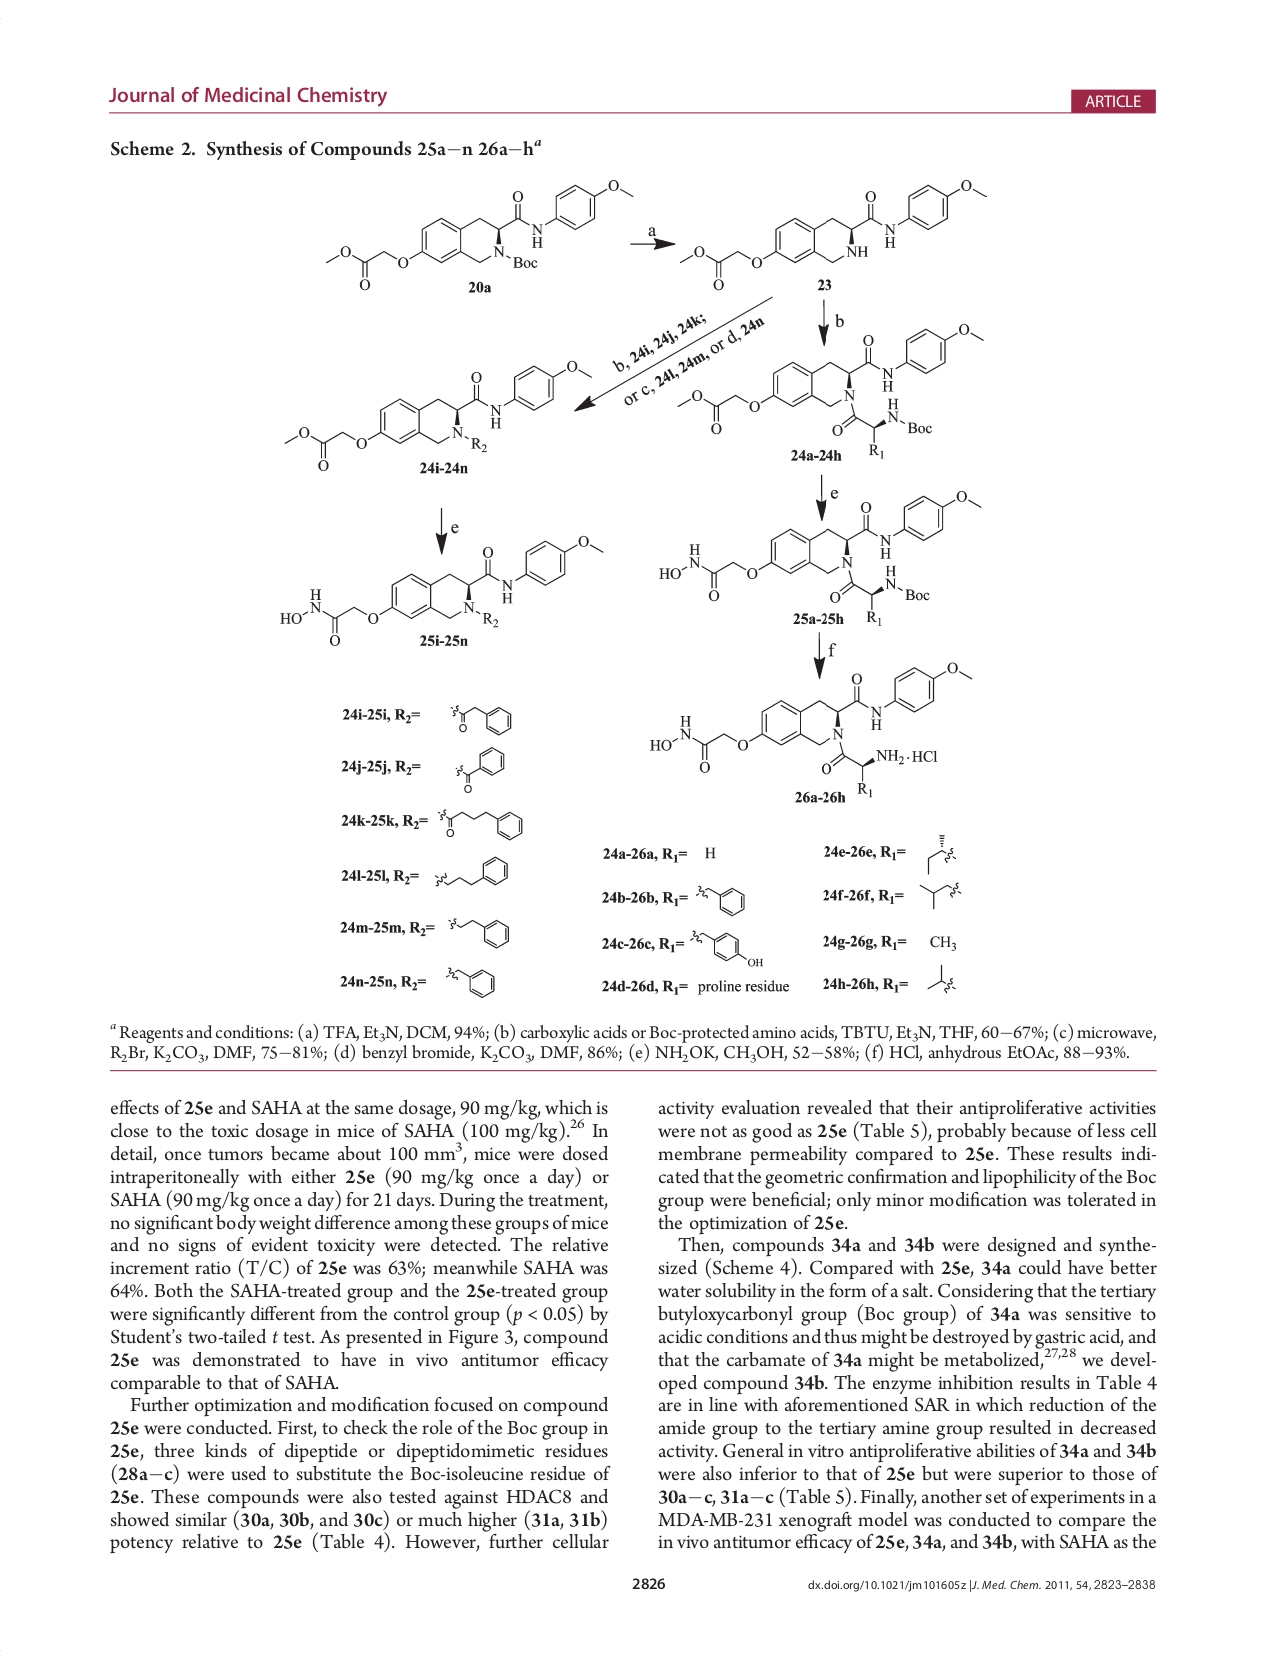exist_molecular: (646, 660, 973, 798), (657, 489, 981, 628), (677, 322, 985, 461), (277, 535, 605, 648), (676, 177, 989, 294), (282, 358, 592, 473), (324, 177, 637, 291), (686, 926, 765, 971), (435, 806, 527, 842), (447, 698, 515, 738), (453, 743, 507, 794), (431, 855, 511, 888), (445, 911, 512, 950), (442, 958, 499, 1001), (693, 880, 749, 918), (918, 878, 964, 912), (924, 830, 957, 874), (926, 962, 957, 993)
